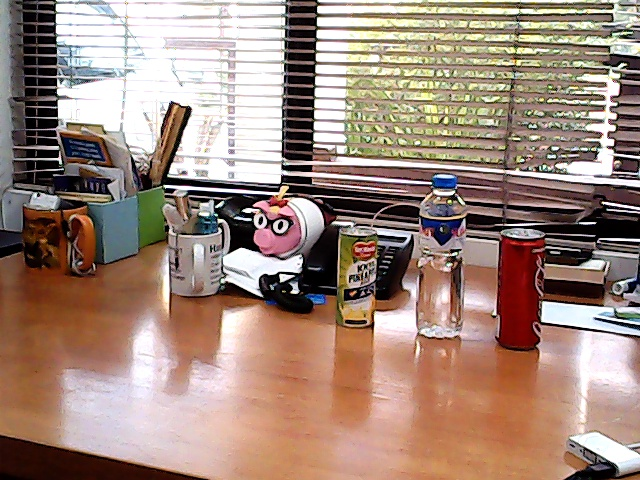Cola: (491, 220, 553, 357)
Pine Juice: (328, 221, 390, 336)
Summit Water: (409, 167, 476, 346)
